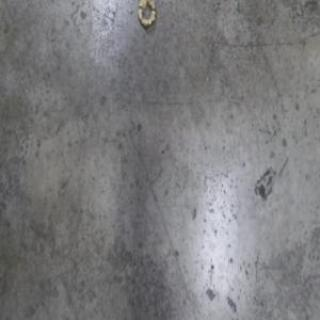Nuttrack_idkeyframe: (136, 0, 155, 32)
